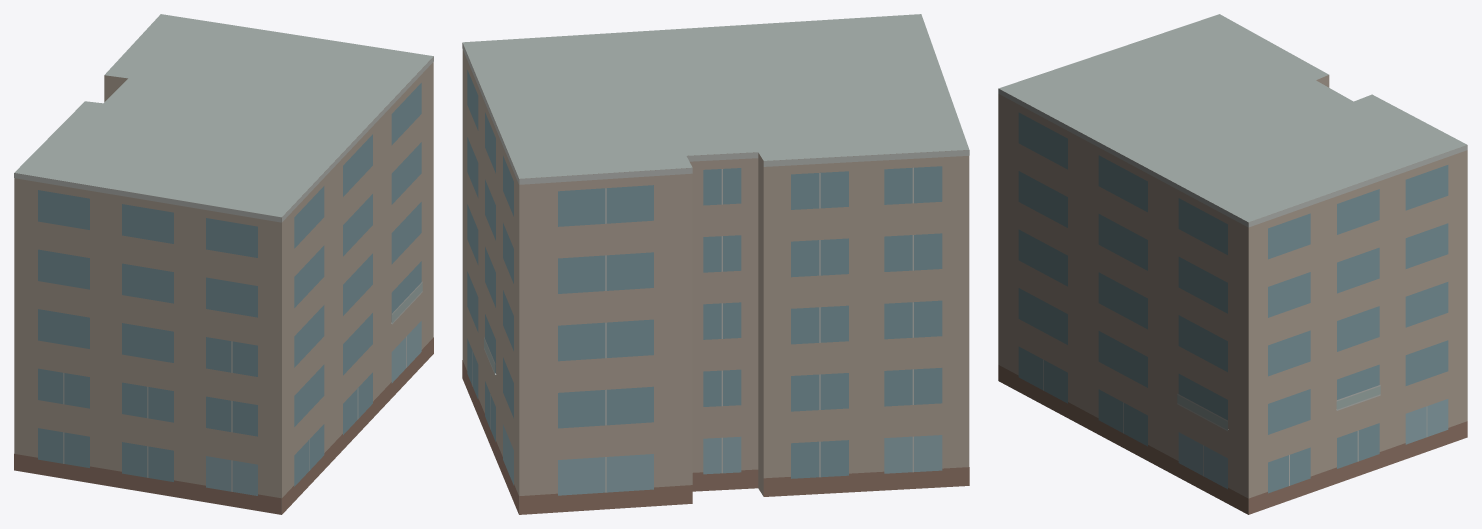
File: survey-upis-33038474.glb
3 views of the same model, side by side, from view 1: azimuth 30°, elevation 25°; view 2: azimuth 150°, elevation 25°; view 3: azimuth 270°, elevation 25° (orthographic). The views are drawn at different scales.
Parts seen in each view (by area): view 1: survey-upis-33038474.tmp; view 2: survey-upis-33038474.tmp; view 3: survey-upis-33038474.tmp.
Part boxes in pixels (x1=…): survey-upis-33038474.tmp: x1=14, y1=14, x2=433, y2=514; survey-upis-33038474.tmp: x1=462, y1=14, x2=969, y2=514; survey-upis-33038474.tmp: x1=998, y1=14, x2=1467, y2=514.
Bounding box in the file's own units: 20.93 × 13.7 × 19.92.
